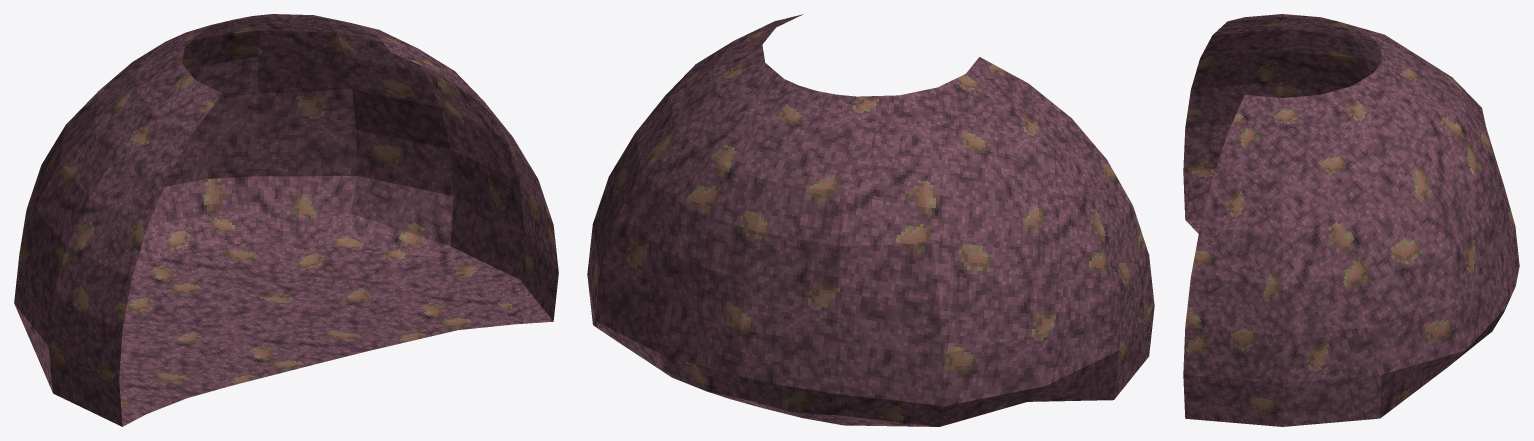
The model's file is MonsterDen.fbx.
The picture shows the model from 3 angles, left to right: view 1: azimuth 30°, elevation 25°; view 2: azimuth 150°, elevation 25°; view 3: azimuth 270°, elevation 25°; orthographic projection. The views are drawn at different scales.
Parts seen in each view (by area): view 1: Sphere; view 2: Sphere; view 3: Sphere.
Part boxes in pixels (x1,y1,x2,y2): Sphere: (14, 14, 558, 426); Sphere: (587, 14, 1154, 426); Sphere: (1183, 14, 1519, 426).
Bounding box in the file's own units: 12181 × 6853 × 7888.
